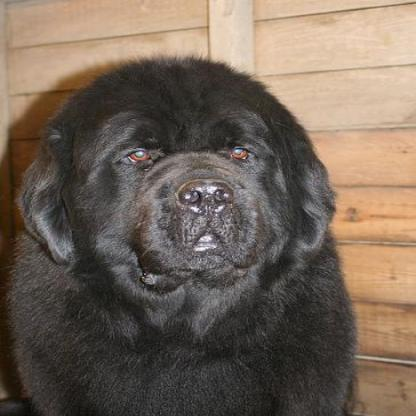Newfoundland: (0, 51, 357, 414)
